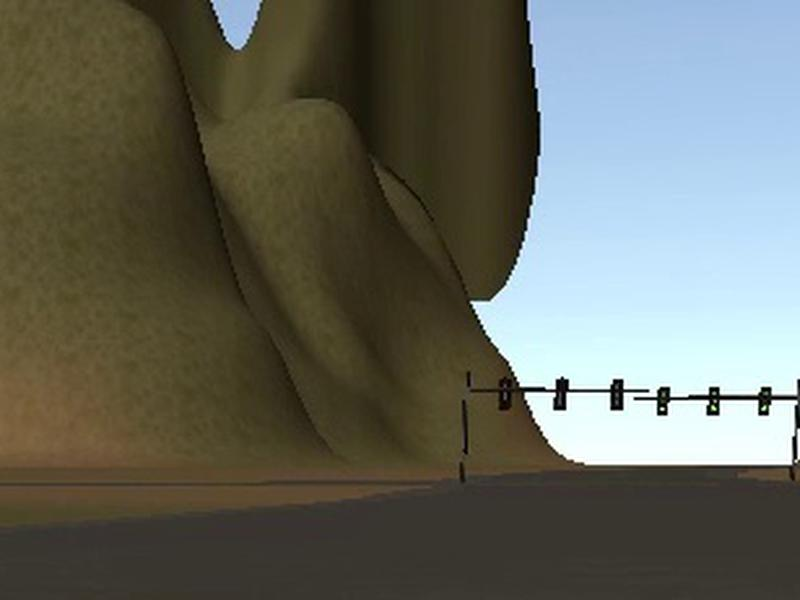Green: (705, 386, 720, 415), (656, 386, 670, 416), (757, 386, 771, 415)
